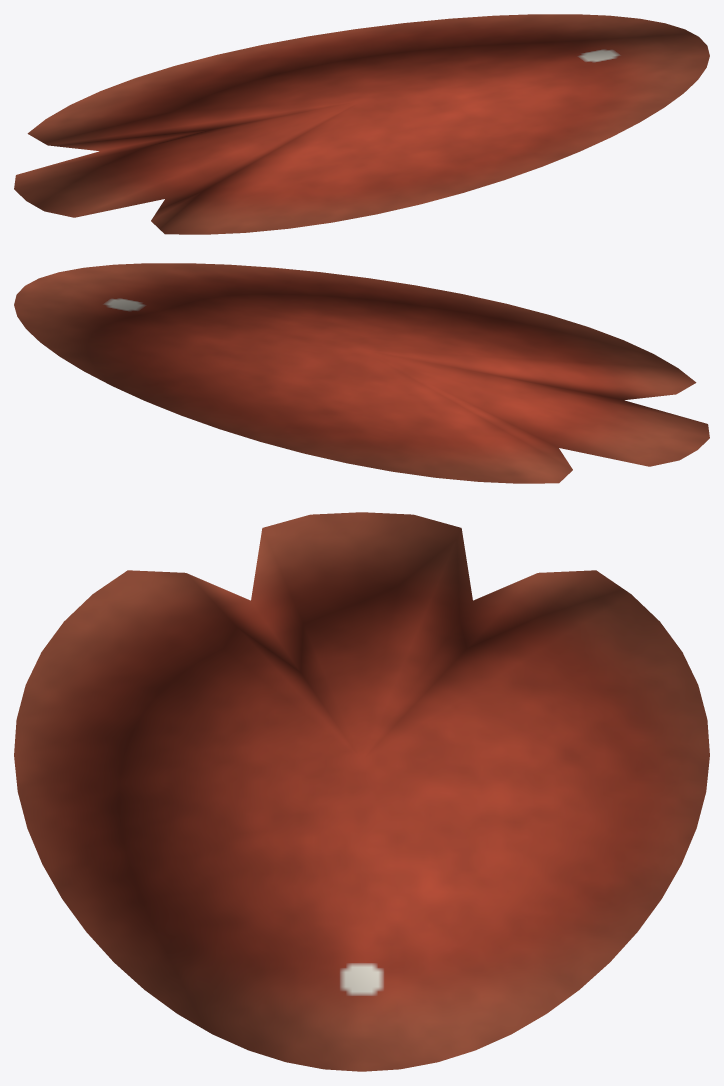
Rendered from micro_flatworm.glb.
The picture shows the model from 3 angles, top to bottom: view 1: azimuth 30°, elevation 25°; view 2: azimuth 150°, elevation 25°; view 3: azimuth 270°, elevation 25°; orthographic projection. The views are drawn at different scales.
Parts seen in each view (by area): view 1: Body; view 2: Body; view 3: Body.
Part boxes in pixels (x1=…): Body: x1=14, y1=14, x2=709, y2=234; Body: x1=14, y1=263, x2=709, y2=483; Body: x1=14, y1=512, x2=709, y2=1071.
Size of the model in its own units: 1 by 0.035 by 0.5256.
1 material, 1 textured.
